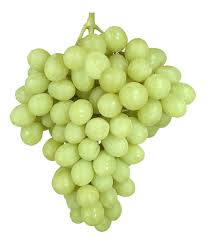Green grapes: (7, 13, 199, 233)
